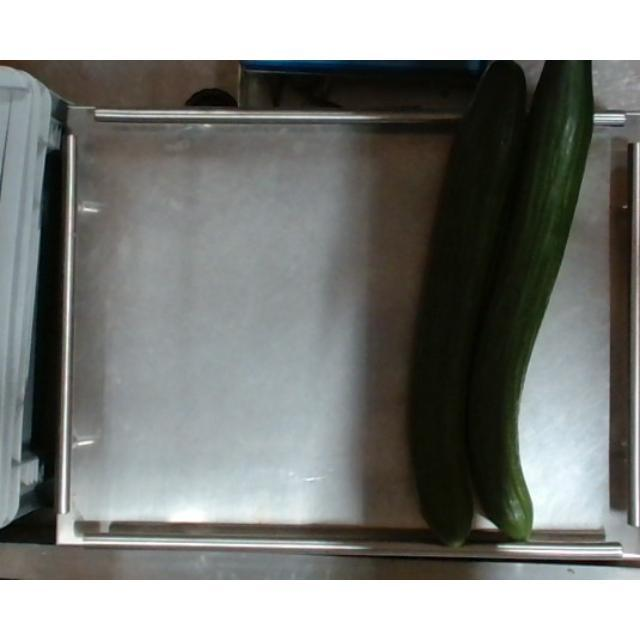cucumber: (471, 61, 595, 544), (414, 60, 530, 542)
